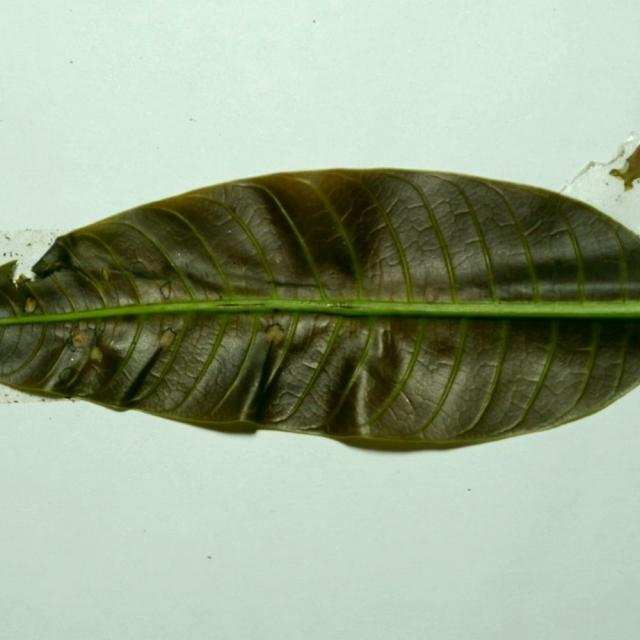Anthracnose: (258, 315, 353, 424), (245, 184, 332, 295), (391, 323, 477, 433), (348, 319, 429, 425), (496, 324, 558, 432), (33, 247, 166, 296), (209, 315, 271, 413), (119, 326, 181, 403), (467, 323, 512, 428), (560, 321, 604, 420), (9, 264, 91, 317), (314, 204, 365, 279), (255, 321, 295, 415), (250, 325, 290, 415), (352, 329, 376, 430), (60, 349, 99, 390), (69, 261, 109, 300), (257, 278, 349, 290), (117, 265, 175, 282), (16, 273, 41, 310), (332, 196, 358, 227), (370, 323, 387, 361), (36, 259, 65, 278), (379, 325, 396, 356), (520, 217, 544, 237), (393, 389, 413, 412), (358, 200, 381, 217)
Mango: (1, 168, 639, 456)
